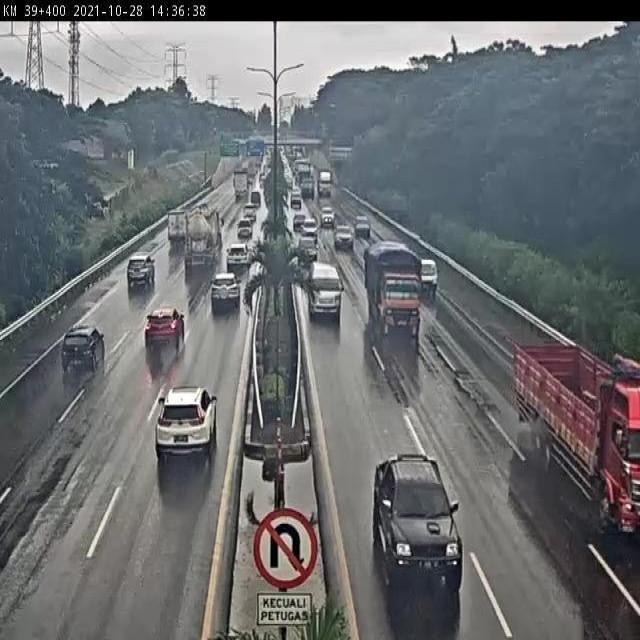truck-m-: (508, 342, 640, 534), (364, 238, 424, 330)
truck-xl-: (180, 205, 224, 275)
